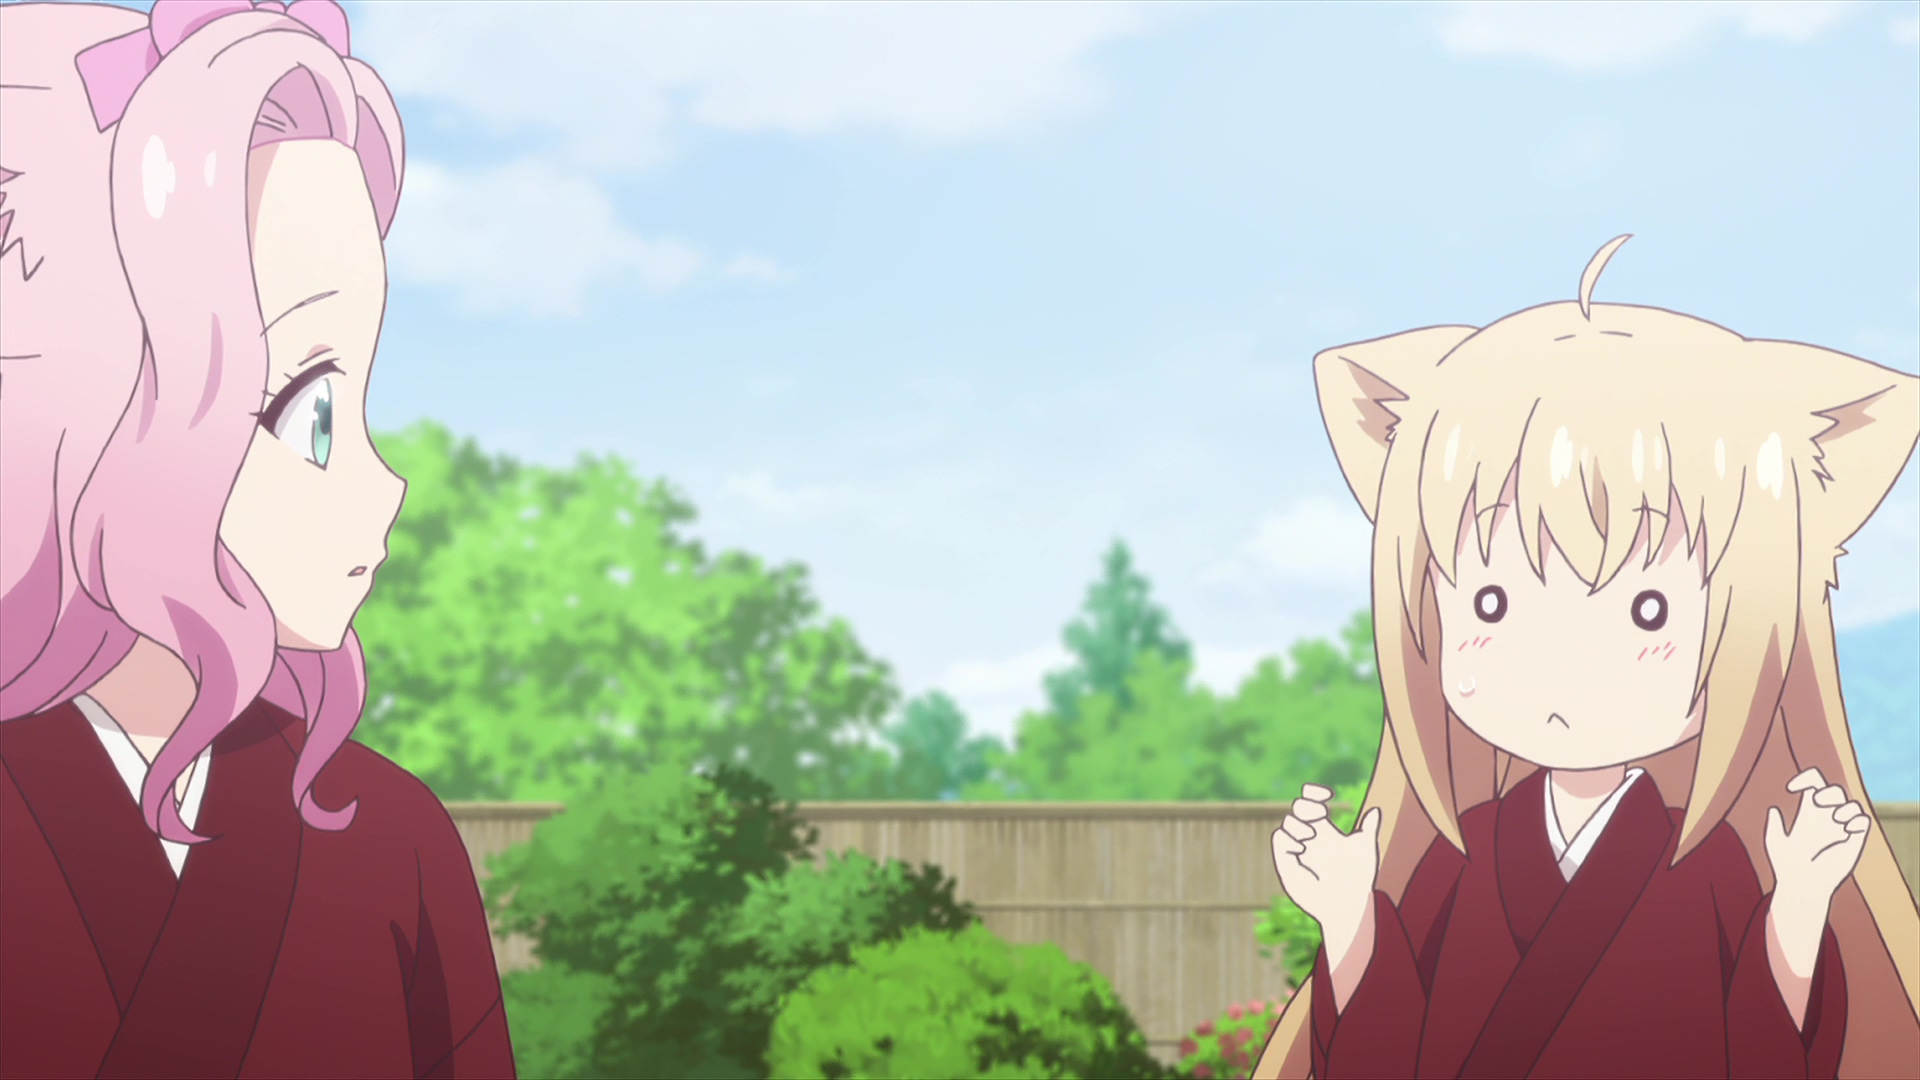柚: (1251, 235, 1920, 1080)
莲: (1, 1, 516, 1080)
